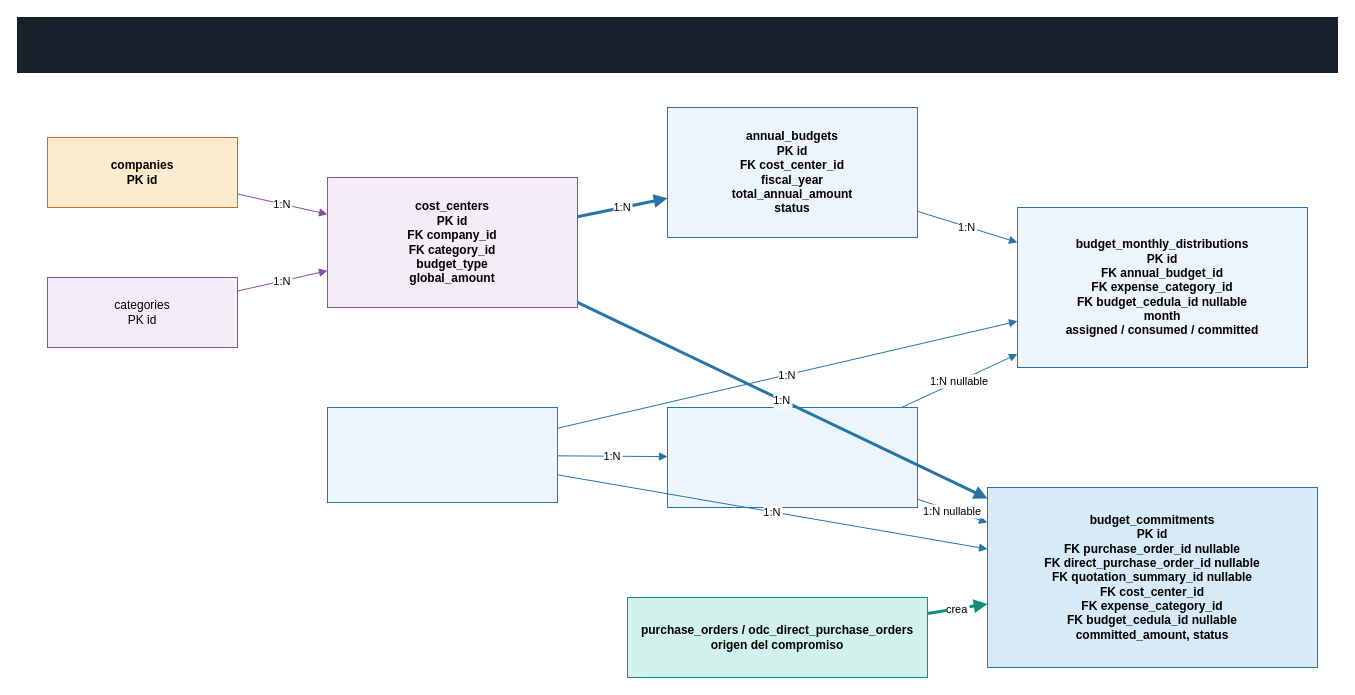
This 1355x695 diagram has some shape labels left out. The centre of each missing label's shape, as x and y in pixels:
budget_cedulas PK id FK expense_category_id name, status: the point at 792,457
expense_categories PK id code, name status: the point at 442,454
Modelo presupuestal y compromisos: the point at 677,44
